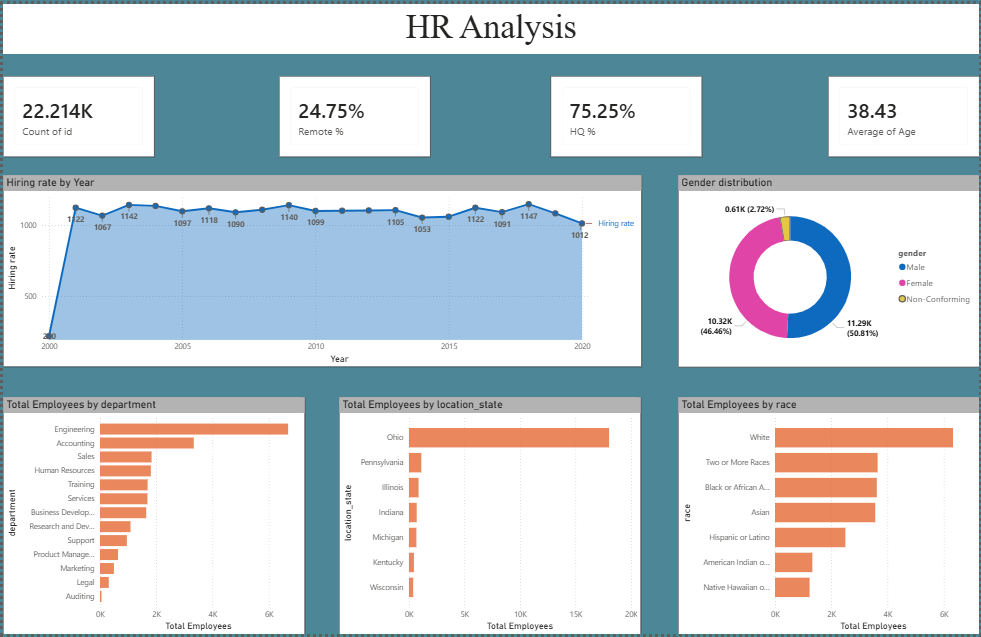

Layout of this report page (visuals, bound fields, positions):
{"tool":"powerbi","page":{"name":"Page 1","canvas":[1550,1000],"ordinal":0},"visuals":[{"type":"cardVisual","fields":{"Data":["CountNonNull(project_hr_analytics HR.id)"]},"box":[0,114.3,240.5,128.6],"z":0},{"type":"cardVisual","fields":{"Data":["project_hr_analytics HR.Remote %"]},"box":[438.1,114.3,240.5,128.6],"z":1000},{"type":"cardVisual","fields":{"Data":["Avg(project_hr_analytics HR.Age)"]},"box":[1309.5,114.3,240.5,128.6],"z":2000},{"type":"cardVisual","fields":{"Data":["project_hr_analytics HR.HQ %"]},"box":[869,114.3,240.5,128.6],"z":3000},{"type":"lineChart","fields":{"Category":["project_hr_analytics HR.hire_date.Variation.Date Hierarchy.Year"],"Y":["project_hr_analytics HR.Hiring Count"]},"box":[0,271.4,1014.3,304.8],"z":4000},{"type":"donutChart","title":" Gender distribution","fields":{"Y":["CountNonNull(project_hr_analytics HR.gender)"],"Category":["project_hr_analytics HR.gender"]},"box":[1070.5,270.5,480,305],"z":5000},{"type":"barChart","fields":{"Category":["project_hr_analytics HR.location_state"],"Y":["project_hr_analytics HR.Total Employees"]},"box":[534.1,622.7,479.5,377.3],"z":6000},{"type":"barChart","fields":{"Category":["project_hr_analytics HR.department"],"Y":["project_hr_analytics HR.Total Employees"]},"box":[0,622.7,479.5,377.3],"z":7000},{"type":"barChart","fields":{"Category":["project_hr_analytics HR.race"],"Y":["project_hr_analytics HR.Total Employees"]},"box":[1070.5,622.7,479.5,377.3],"z":8000},{"type":"textbox","box":[0,0,1550,79.5],"z":9000}]}

Visuals, with their boxes in screenshot pixels (x1, y1, x2, y2), scaled from the page's 1550x1000 canvas onto the 981x637 screenshot:
cardVisual - CountNonNull(project_hr_analytics HR.id): x1=0, y1=73, x2=152, y2=155
cardVisual - project_hr_analytics HR.Remote %: x1=277, y1=73, x2=429, y2=155
cardVisual - Avg(project_hr_analytics HR.Age): x1=829, y1=73, x2=980, y2=155
cardVisual - project_hr_analytics HR.HQ %: x1=550, y1=73, x2=702, y2=155
lineChart - project_hr_analytics HR.hire_date.Variation.Date Hierarchy.Year x project_hr_analytics HR.Hiring Count: x1=0, y1=173, x2=642, y2=367
" Gender distribution" donutChart: x1=678, y1=172, x2=980, y2=367
barChart - project_hr_analytics HR.location_state x project_hr_analytics HR.Total Employees: x1=338, y1=397, x2=642, y2=636
barChart - project_hr_analytics HR.department x project_hr_analytics HR.Total Employees: x1=0, y1=397, x2=303, y2=636
barChart - project_hr_analytics HR.race x project_hr_analytics HR.Total Employees: x1=678, y1=397, x2=980, y2=636
textbox: x1=0, y1=0, x2=980, y2=51
